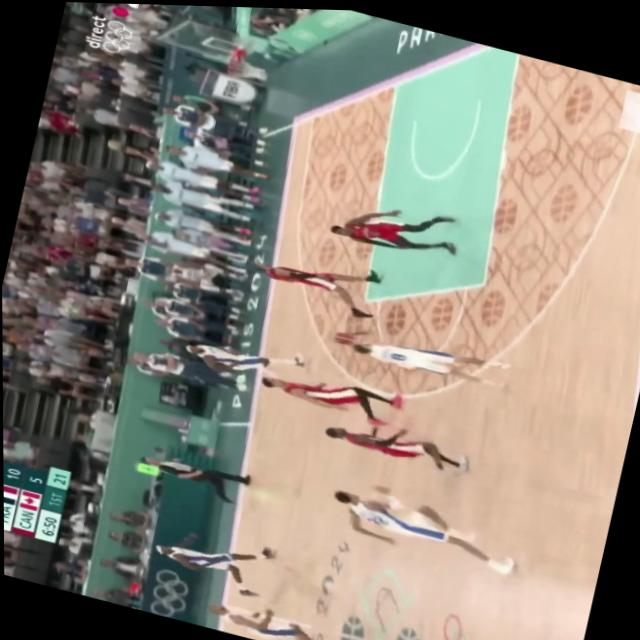ball_handler: (328, 313, 512, 391)
